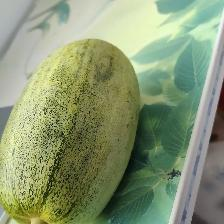gua: (10, 49, 99, 212)
